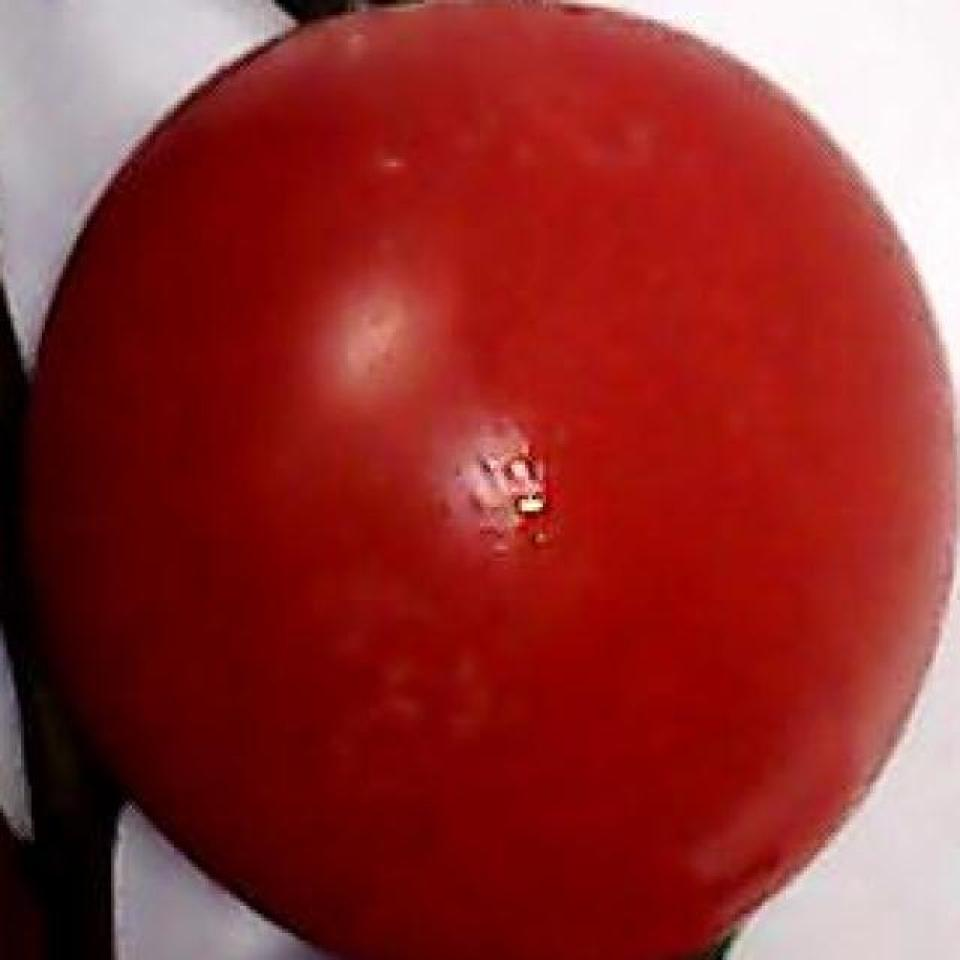Healthy: (61, 19, 960, 948)
